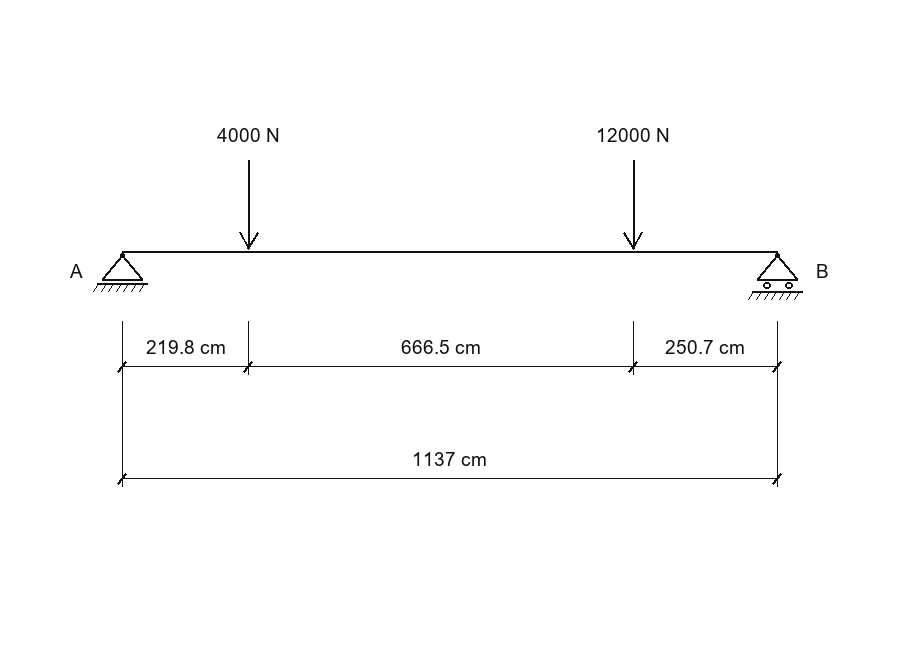pin_support: (93, 253, 148, 292)
point_load: (239, 160, 259, 250), (623, 160, 643, 250)
roller_support: (748, 253, 803, 300)
